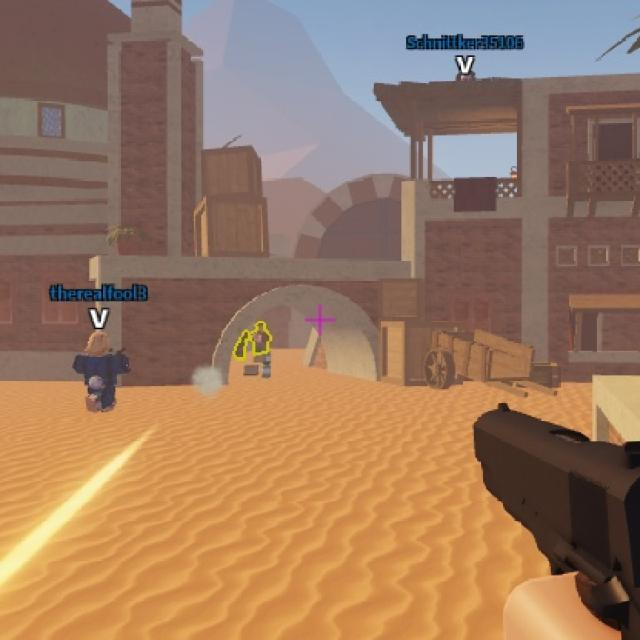player: (255, 317, 267, 360), (239, 330, 248, 360)
